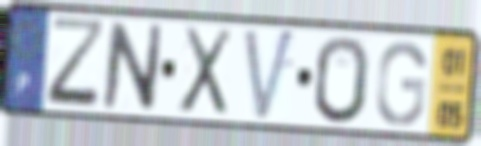G: (373, 39, 429, 129)
N: (99, 19, 166, 115)
O: (313, 33, 372, 127)
V: (241, 26, 299, 127)
X: (176, 24, 235, 119)
Z: (44, 15, 110, 113)
